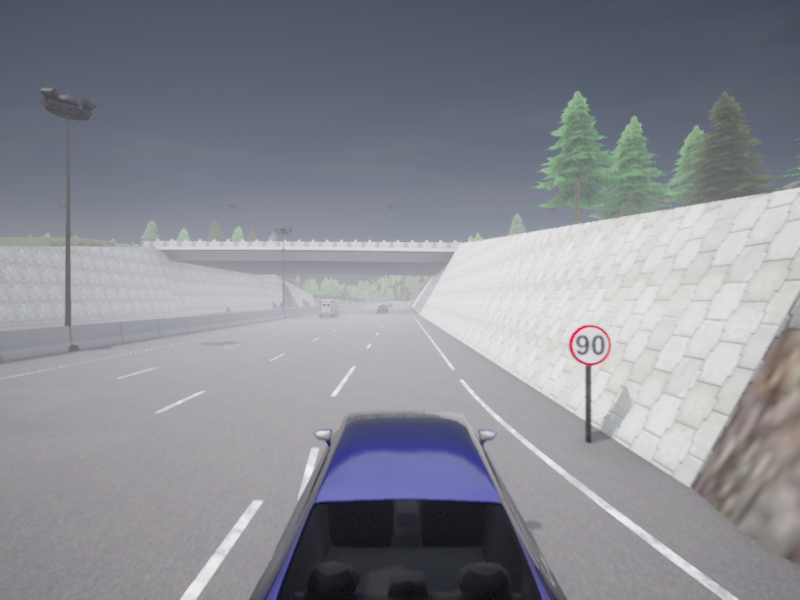vehicle: (248, 410, 567, 599), (318, 300, 340, 316), (377, 305, 388, 312), (386, 303, 392, 307), (378, 301, 384, 305)
